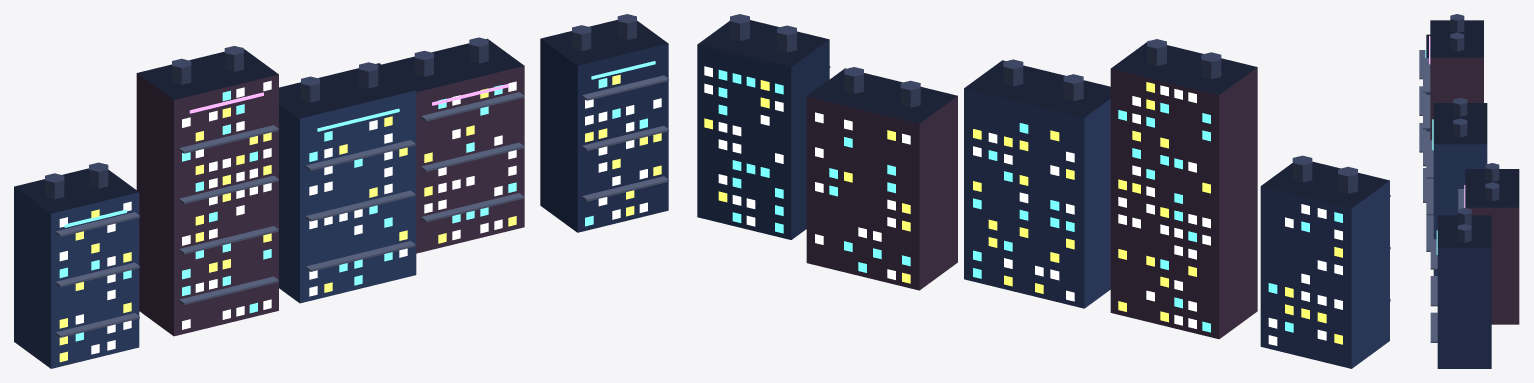
Rendered from W1_Mid_Apartments.fbx.
The picture shows the model from 3 angles, left to right: view 1: azimuth 30°, elevation 25°; view 2: azimuth 150°, elevation 25°; view 3: azimuth 270°, elevation 25°; orthographic projection. The views are drawn at different scales.
Visible parts, largest first — view 1: W1_Mid_Apartments; view 2: W1_Mid_Apartments; view 3: W1_Mid_Apartments.
Part boxes in pixels (<box>): W1_Mid_Apartments: <box>14,14,668,368</box>; W1_Mid_Apartments: <box>697,14,1390,368</box>; W1_Mid_Apartments: <box>1419,14,1519,368</box>.
Size of the model in its own units: 117 by 45.14 by 22.4.
